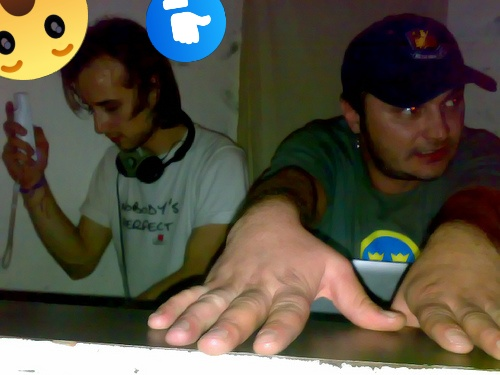like: (146, 0, 226, 62)
wow: (0, 0, 88, 80)
